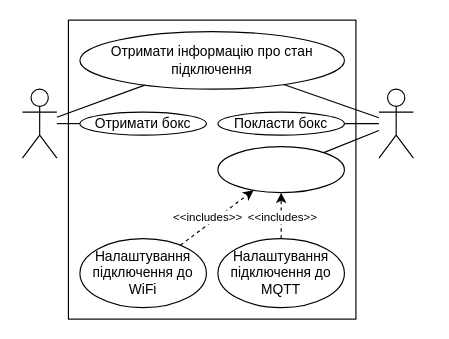
Image size: 449x339. Some labels were removed from this diagram. The shapes that lost their labels are listed below. From the top down, each one's centre as x and y in pixels, then its label:
At point (39, 123): "Клієнт".
At point (395, 123): "Працівник".
At point (280, 169): "Налаштування терміналу".
